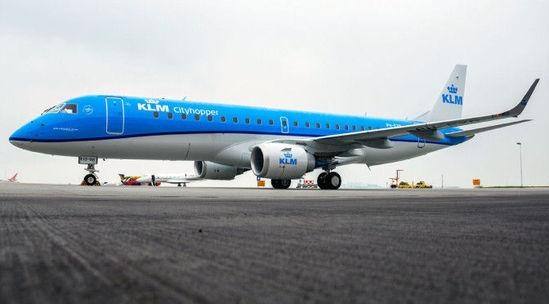airplane: (6, 63, 545, 188)
